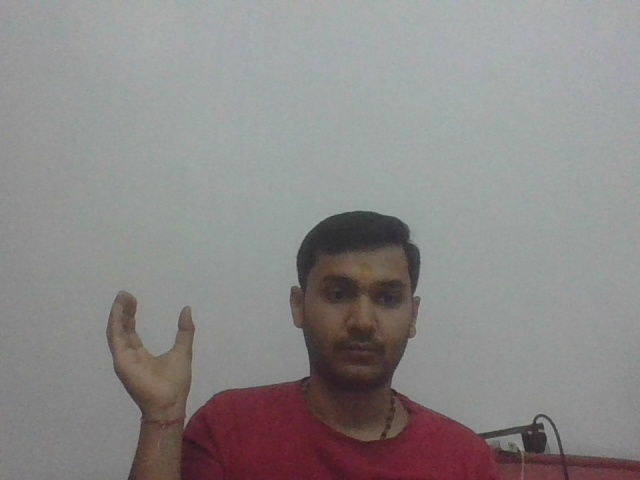U: (101, 287, 200, 407)
